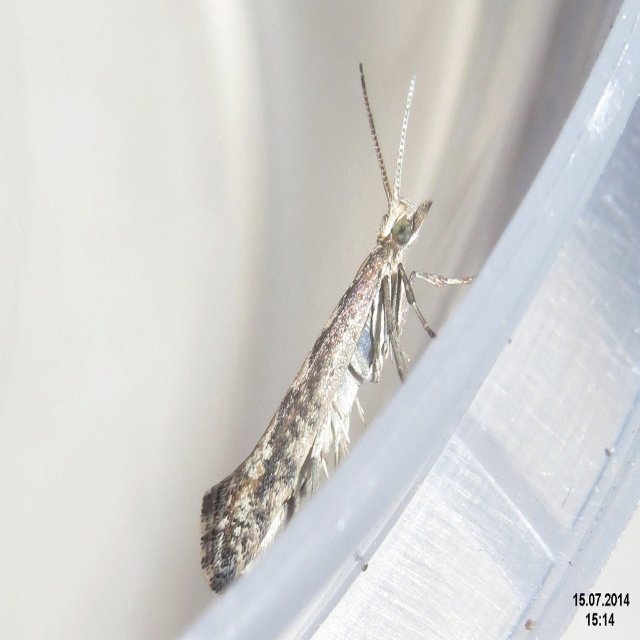Moths and butterflies: (200, 62, 478, 594)
